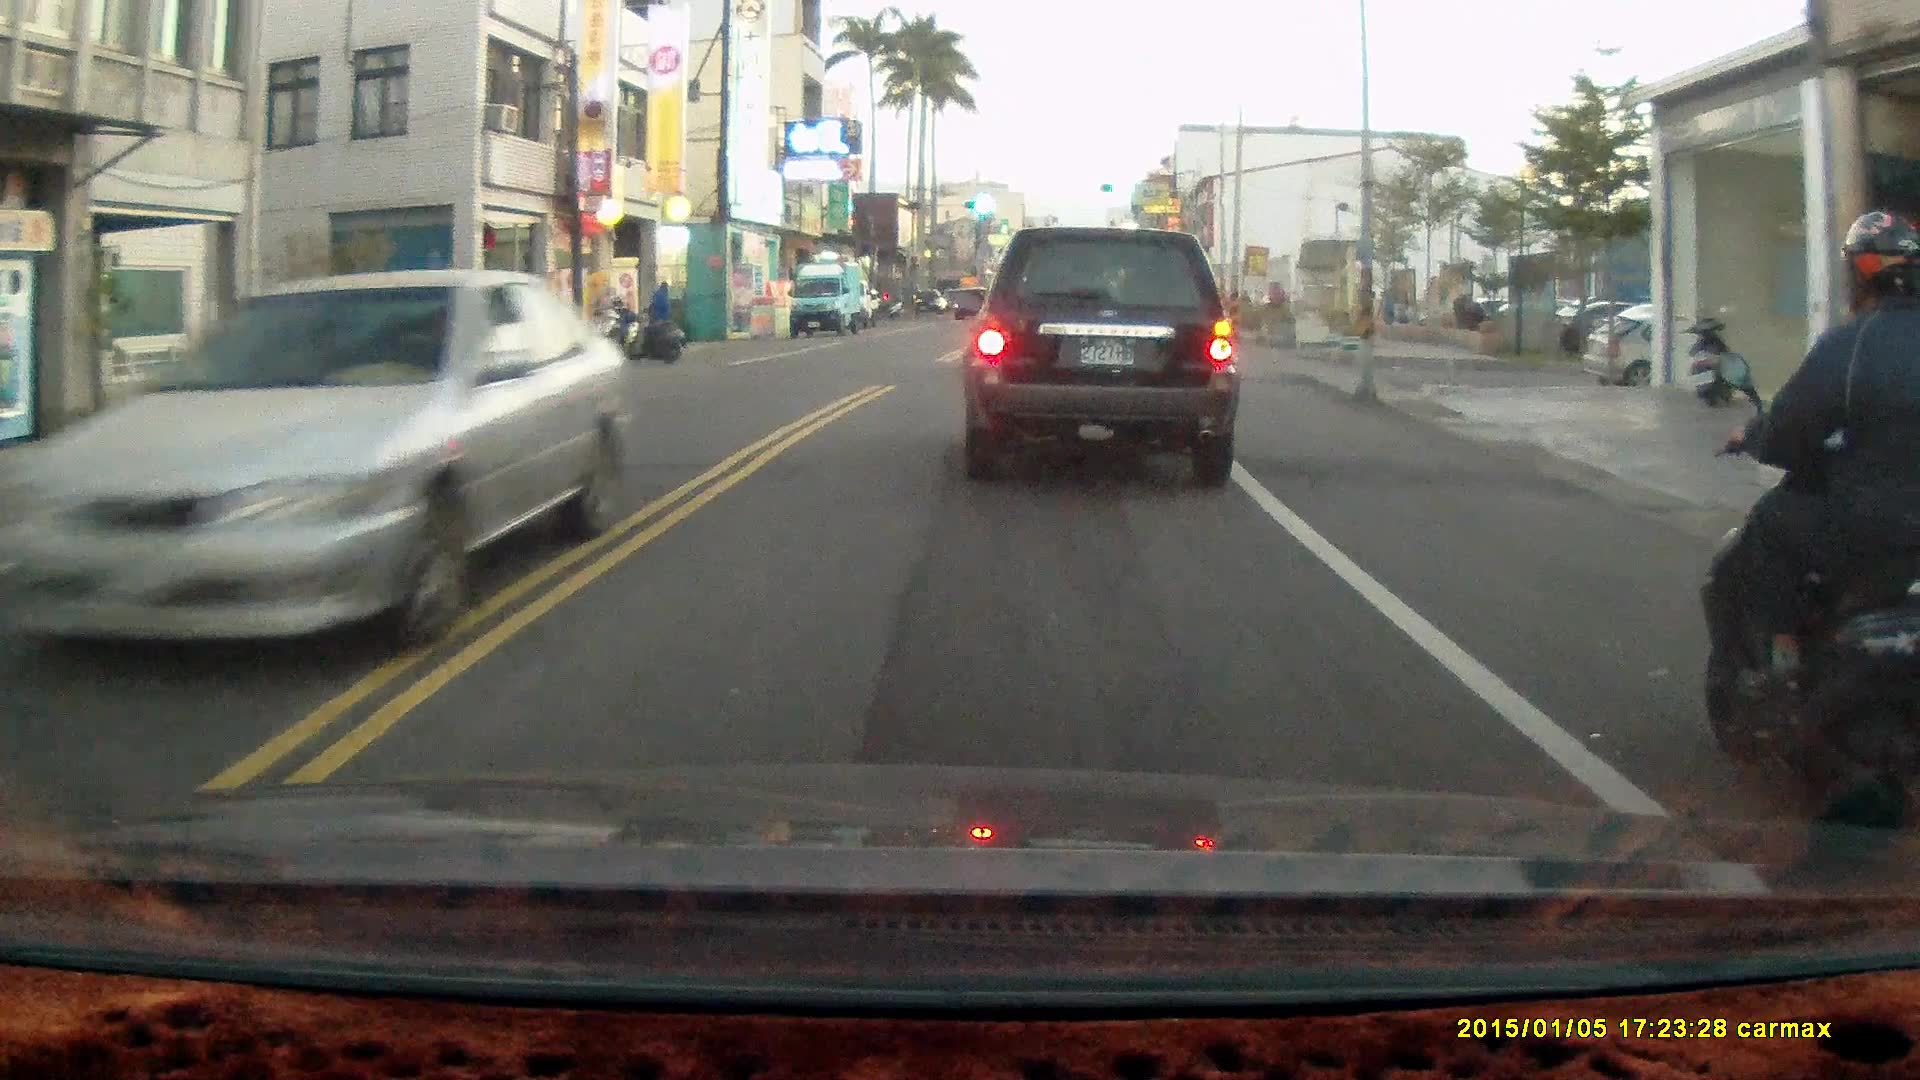pedestrian: (645, 275, 676, 349)
rider: (1693, 211, 1920, 850)
vehicle: (1, 268, 637, 672), (969, 226, 1246, 492), (1581, 318, 1794, 401), (789, 265, 871, 343)
